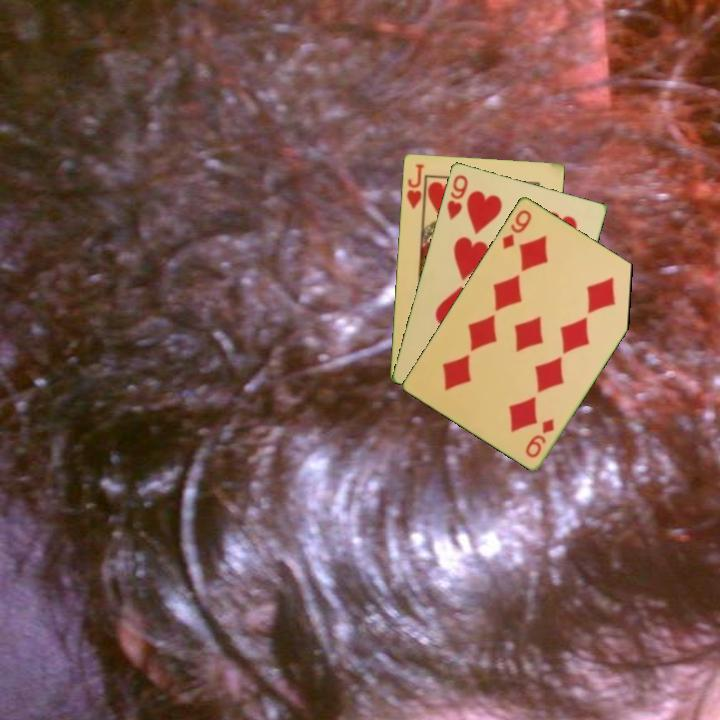9d: (498, 206, 534, 252), (522, 414, 557, 461)
9h: (443, 171, 471, 222)
Jh: (403, 160, 427, 211)
